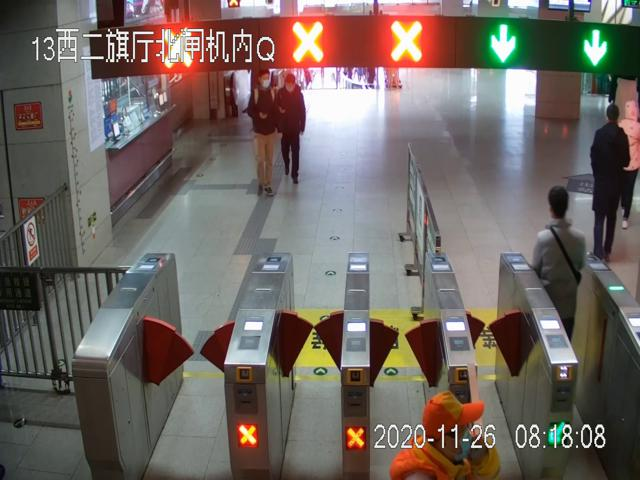person: (591, 104, 630, 267), (247, 68, 277, 196), (276, 72, 307, 184)
